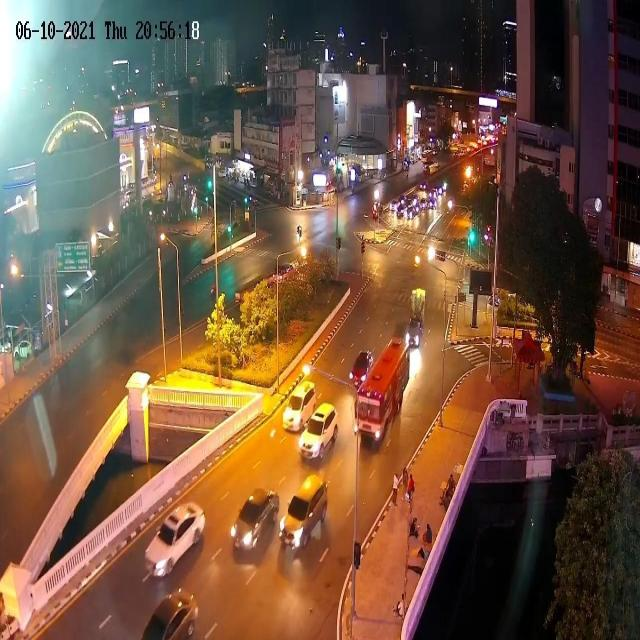Bus: (354, 336, 410, 442)
Car: (143, 501, 210, 586), (280, 473, 330, 550), (232, 486, 282, 551), (140, 589, 200, 639), (298, 401, 338, 459), (282, 379, 317, 433), (350, 350, 374, 390), (269, 259, 301, 284), (0, 614, 20, 639), (414, 190, 431, 214), (404, 194, 422, 216), (396, 198, 408, 218), (418, 184, 429, 202), (427, 192, 438, 208), (388, 199, 399, 214), (435, 186, 444, 197)
Truck: (406, 286, 427, 344)
